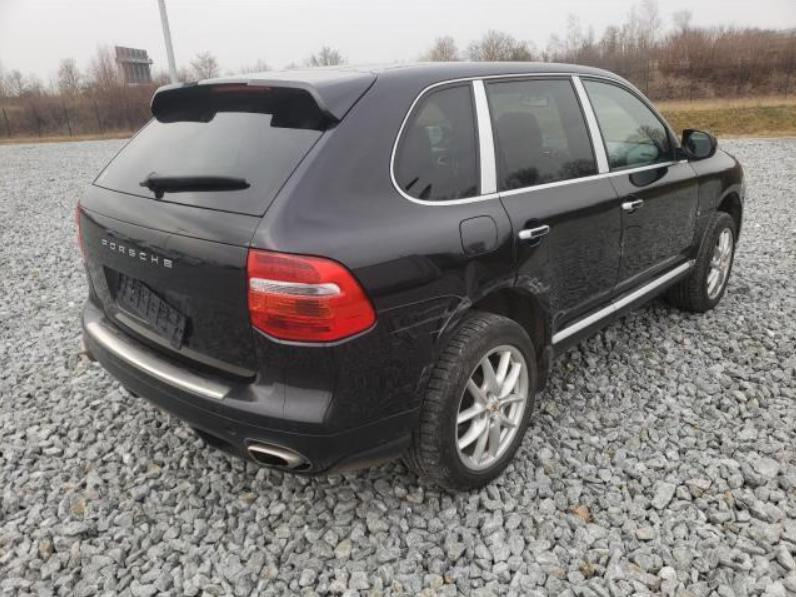Back-bumper: (81, 262, 475, 477)
Back-door: (480, 69, 621, 336)
Back-wheel: (404, 310, 539, 490)
Back-window: (485, 77, 597, 191), (392, 81, 478, 200)
Back-windshield: (92, 94, 325, 217)
Fender: (689, 147, 744, 252)
Front-door: (575, 72, 699, 300)
Front-wheel: (665, 210, 735, 313)
Front-window: (579, 78, 669, 171)
License-plate: (115, 271, 184, 350)
Mirror: (666, 127, 717, 161)
Quarter-panel: (250, 183, 514, 314)
Rocker-panel: (544, 251, 698, 369)
Roof: (284, 61, 598, 77)
Tail-light: (247, 247, 376, 342), (75, 199, 84, 261)
Trunk: (79, 182, 260, 378), (149, 70, 376, 124)
